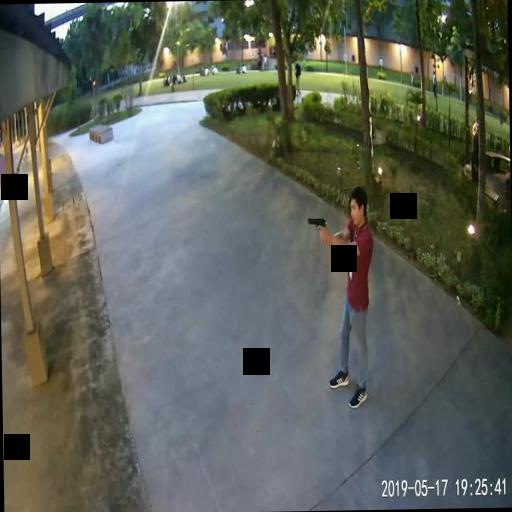Handgun: (306, 216, 326, 240)
